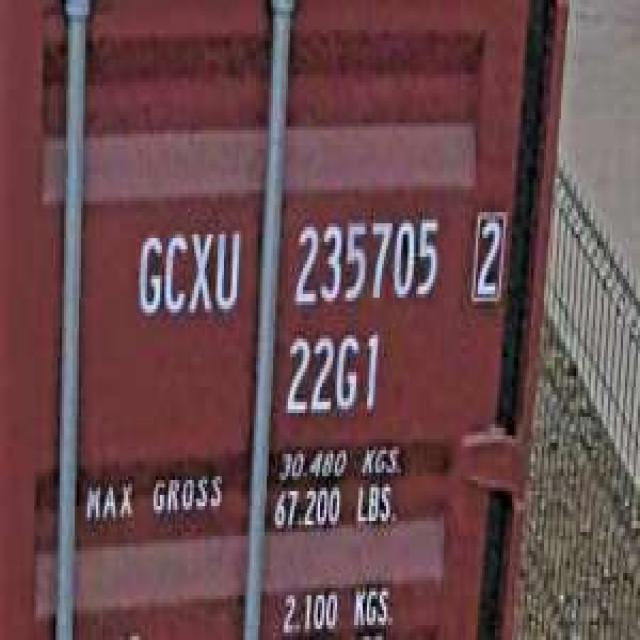dv: (467, 201, 508, 312)
owner: (130, 216, 243, 327)
serial: (288, 205, 444, 312)
size: (279, 324, 382, 420)
